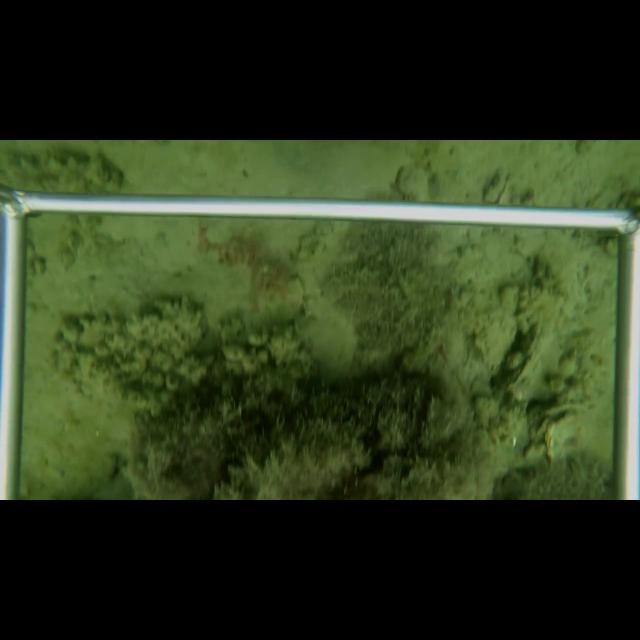Oyster-Closed: (394, 164, 430, 204)
